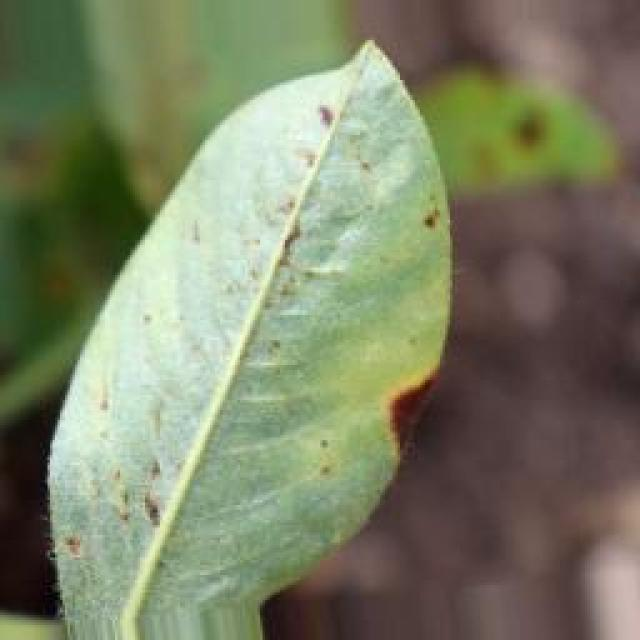Early_leaf_spot: (364, 339, 432, 468), (254, 174, 318, 292), (120, 436, 166, 555), (402, 179, 449, 243), (306, 91, 349, 158), (54, 522, 106, 572)
